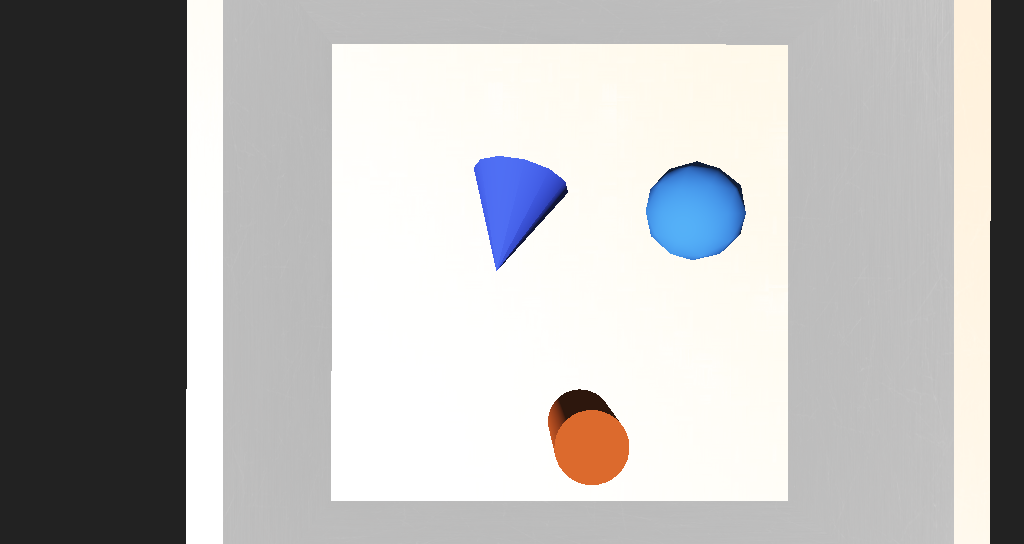cone: (502, 324, 549, 363)
cylinder: (424, 210, 505, 277)
sphere: (563, 222, 623, 265)
